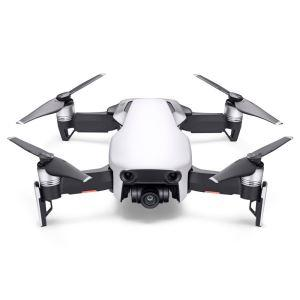drone: (3, 69, 292, 229)
